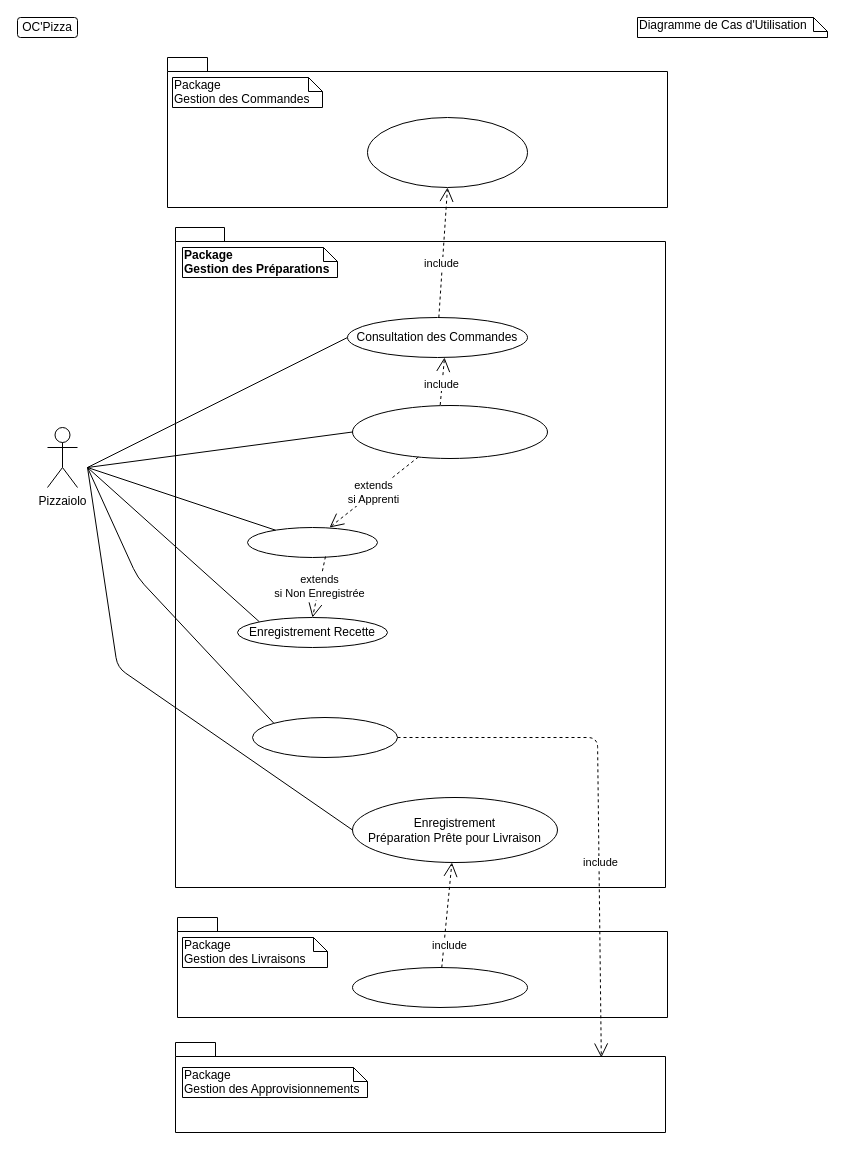
The diagram is 845 pixels wide and 1150 high, and some of its shapes have lost their labels. The centre of each missing label's shape, as x and y in pixels:
"Consultation des Préparations" belongs at point (440, 987).
"Consultation Recette" belongs at point (312, 542).
"Enregistrement Prise en Compte Commande" belongs at point (450, 431).
"Validation Commande (Acceptation du Panier)" belongs at point (447, 152).
"Vérification des Stocks" belongs at point (325, 737).
